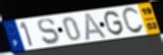0: (62, 16, 84, 42)
1: (19, 21, 35, 48)
A: (84, 12, 108, 42)
C: (121, 6, 145, 35)
G: (104, 10, 125, 37)
S: (37, 17, 61, 46)
